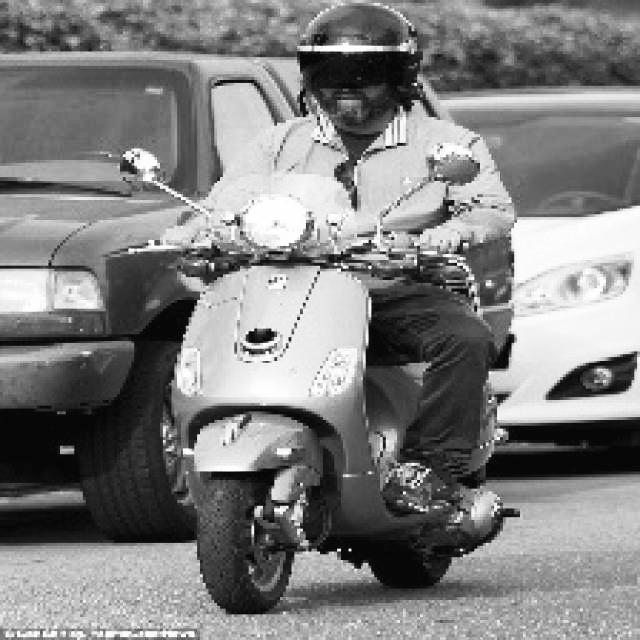Bike: (137, 215, 477, 611)
